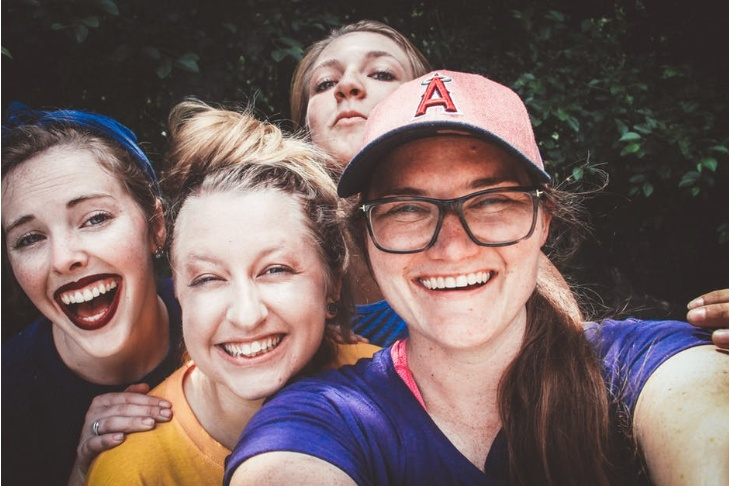face: (368, 140, 546, 347), (181, 194, 330, 394), (6, 149, 144, 356), (309, 31, 409, 161)
